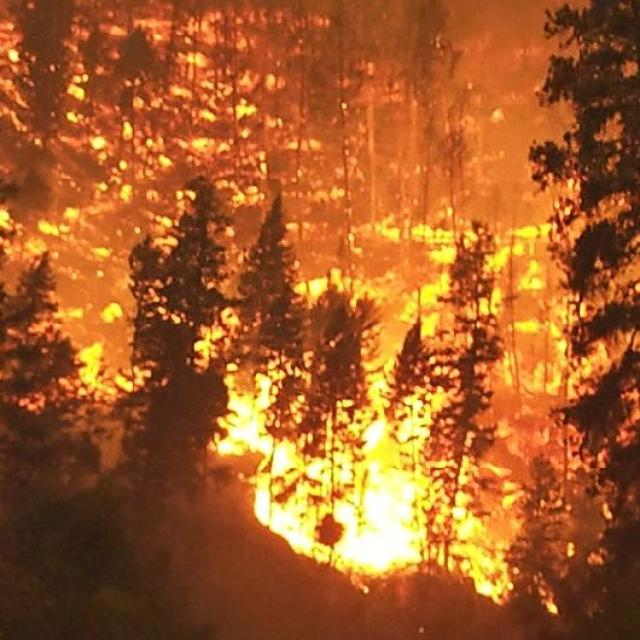Fire: (0, 21, 640, 393), (220, 391, 446, 571), (39, 339, 133, 404)
